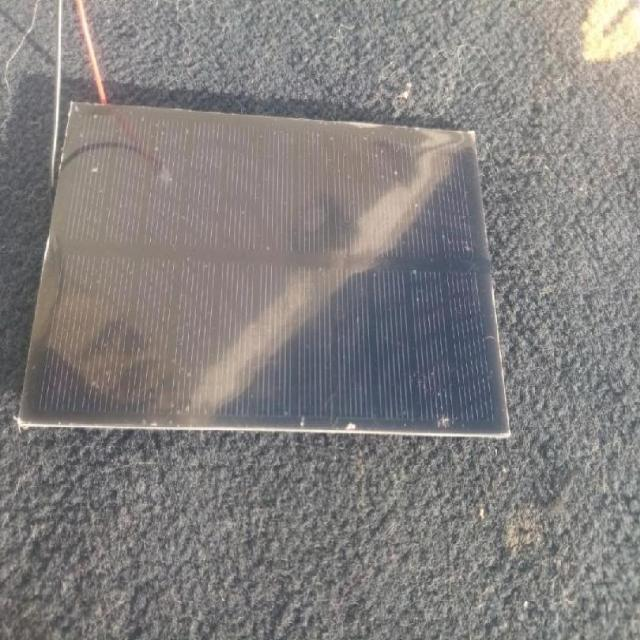no faulty: (61, 110, 473, 435)
